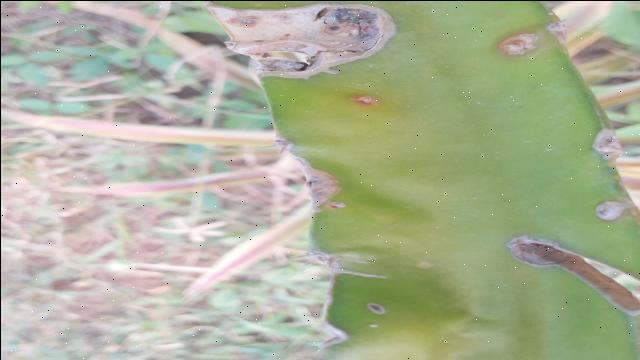stemcanker: (492, 27, 548, 64), (346, 90, 385, 110), (363, 300, 387, 318), (315, 200, 350, 212)
